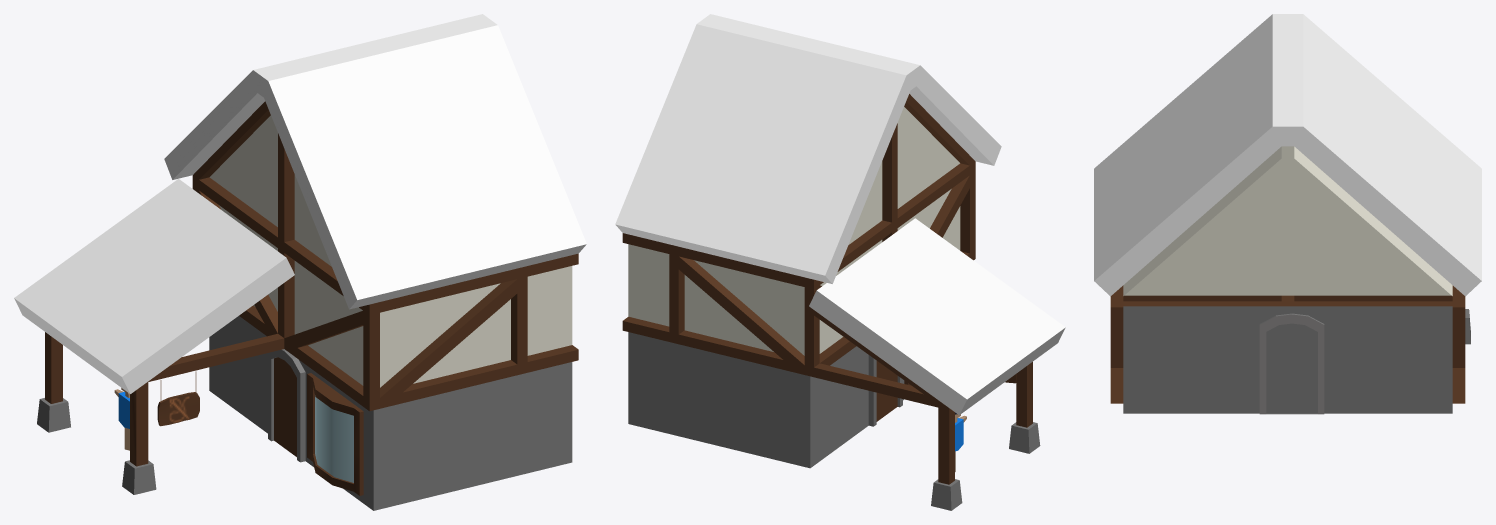
The model's file is Tailor Cap.fbx.
The picture shows the model from 3 angles, left to right: view 1: azimuth 30°, elevation 25°; view 2: azimuth 150°, elevation 25°; view 3: azimuth 270°, elevation 25°; orthographic projection. The views are drawn at different scales.
Visible parts, largest first — view 1: Tailor Cap; view 2: Tailor Cap; view 3: Tailor Cap.
Boxes of the visible parts, x1,y1,x2,y2 form: Tailor Cap: [14, 14, 586, 510]; Tailor Cap: [615, 14, 1065, 510]; Tailor Cap: [1094, 14, 1481, 414].
Bounding box in the file's own units: 0.9368 × 0.9002 × 0.8196.
